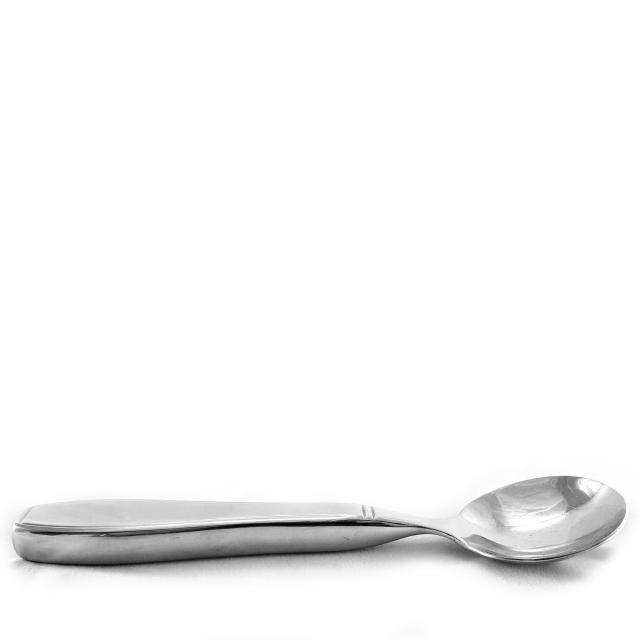spoon: (0, 412, 636, 583)
